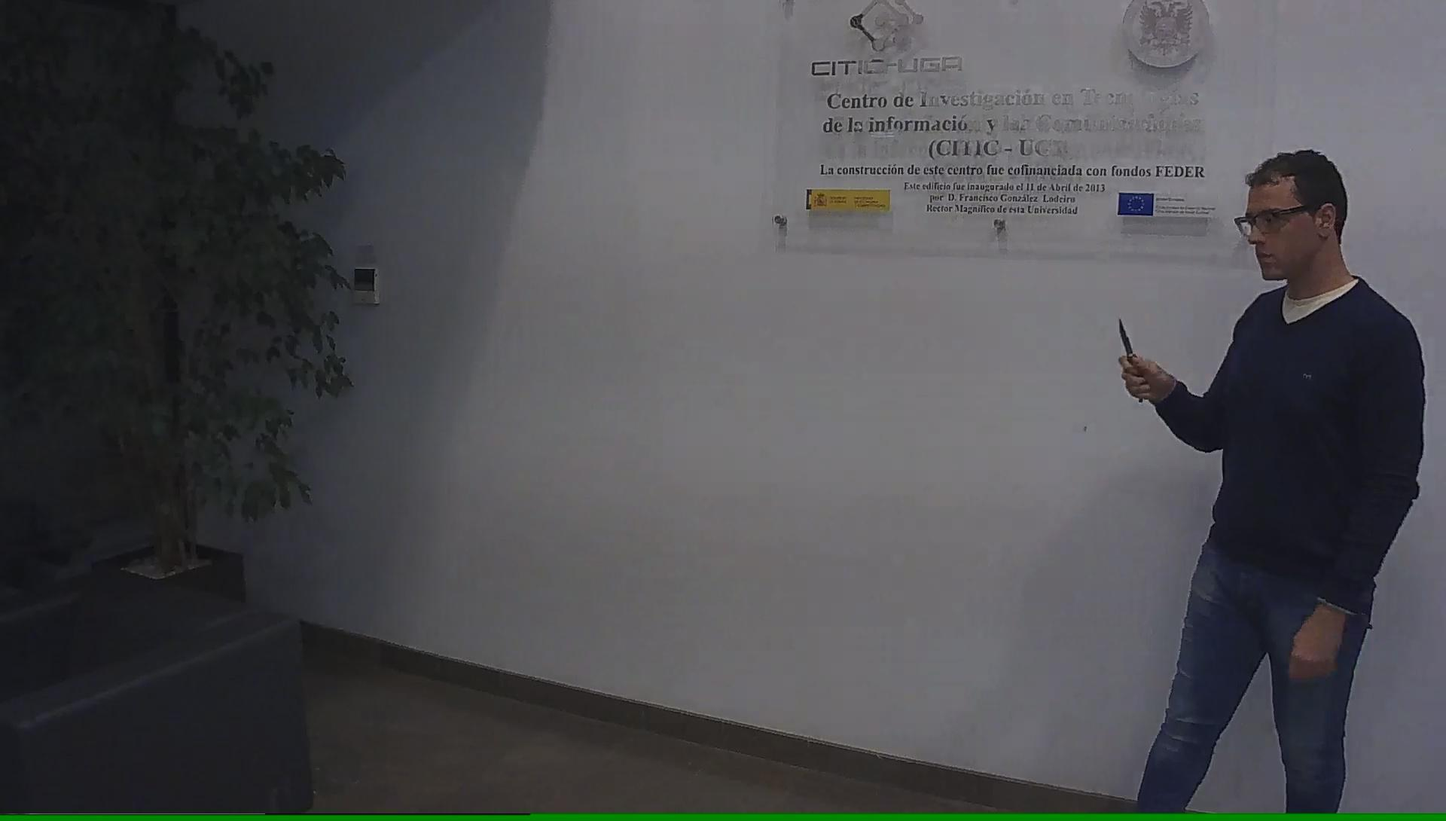Knife: (1110, 311, 1149, 406)
